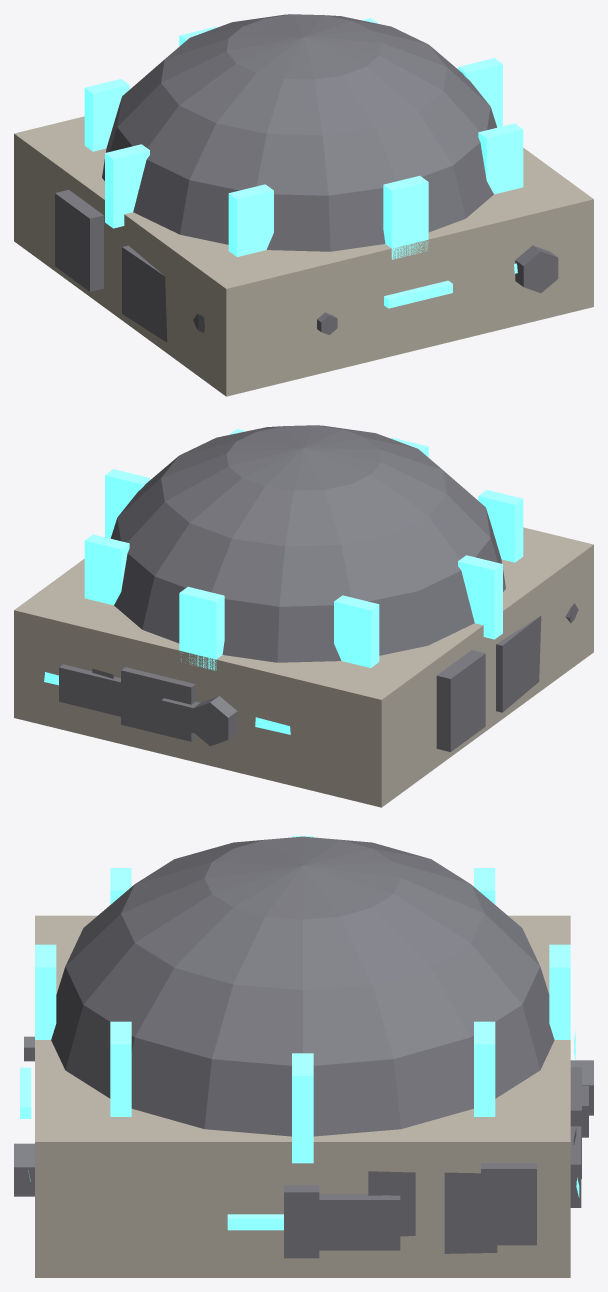
The model's file is alien_dome.glb.
3 renders of one model, top to bottom at view 1: azimuth 30°, elevation 25°; view 2: azimuth 150°, elevation 25°; view 3: azimuth 270°, elevation 25°, orthographic. The views are drawn at different scales.
Parts seen in each view (by area): view 1: alien_dome; view 2: alien_dome; view 3: alien_dome.
Part boxes in pixels (left/top/right/bottom): alien_dome: left=14, top=14, right=593, bottom=396; alien_dome: left=14, top=425, right=593, bottom=807; alien_dome: left=14, top=836, right=593, bottom=1277.
Size of the model in its own units: 5.35 by 3.36 by 5.41.
